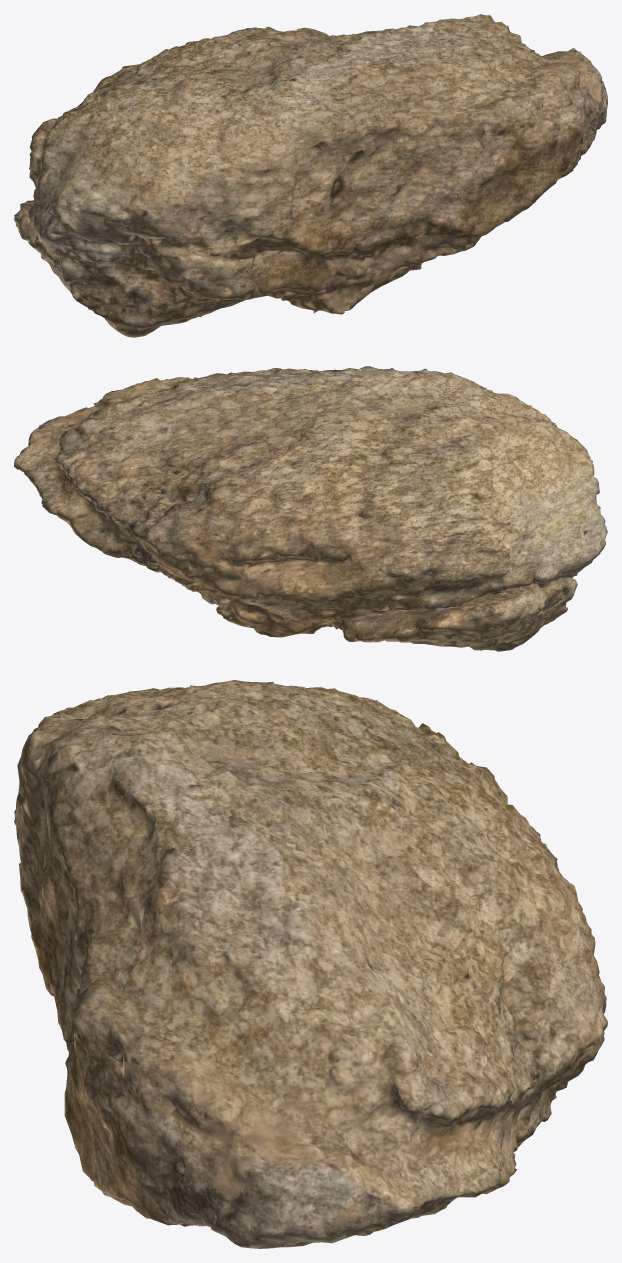
File: boulder_05.glb
3 views of the same model, one above another, from view 1: azimuth 30°, elevation 25°; view 2: azimuth 150°, elevation 25°; view 3: azimuth 270°, elevation 25° (orthographic). The views are drawn at different scales.
Parts seen in each view (by area): view 1: namaqualand_boulder_05; view 2: namaqualand_boulder_05; view 3: namaqualand_boulder_05.
Boxes of the visible parts, left/top/right/bottom form: namaqualand_boulder_05: left=14, top=14, right=607, bottom=337; namaqualand_boulder_05: left=14, top=366, right=607, bottom=651; namaqualand_boulder_05: left=14, top=680, right=607, bottom=1248.
Bounding box in the file's own units: 1.36 × 0.5384 × 0.7481.
Materials: 1 (1 with a texture image).
